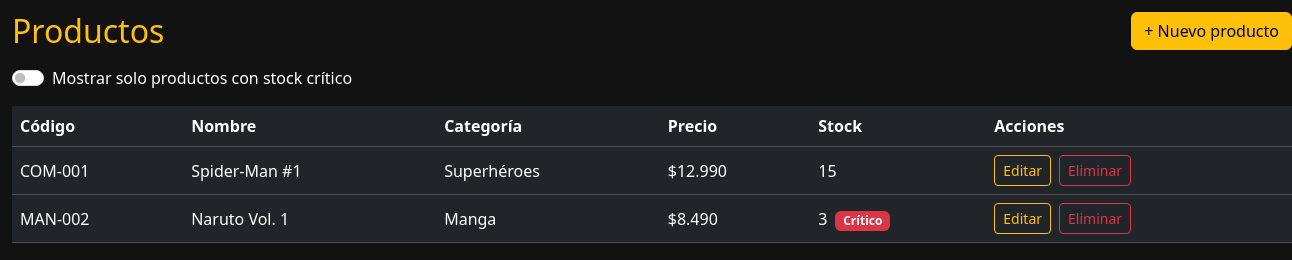
it: AdminProductos › debería mostrar solo los críticos al activar el interruptor
Click the checkbox labelled "Mostrar solo productos con stock crítico" at (28, 78), box [12,70,44,86]
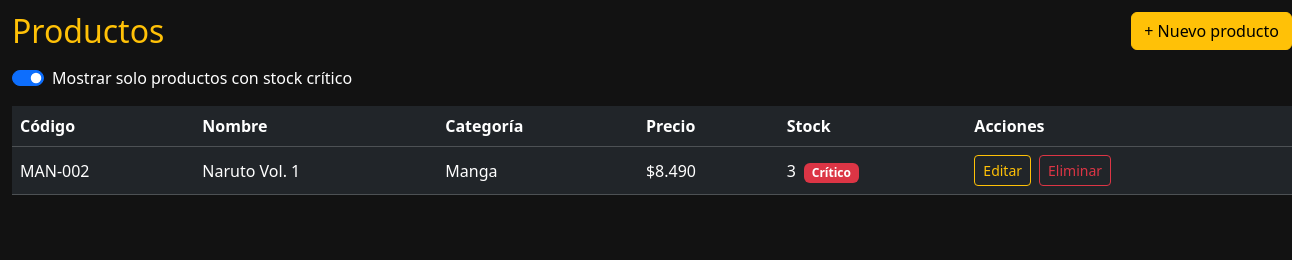
Expected: the text "Naruto Vol. 1" is shown, [194,147,437,195]
Now the text "Spider-Man #1" is gone
